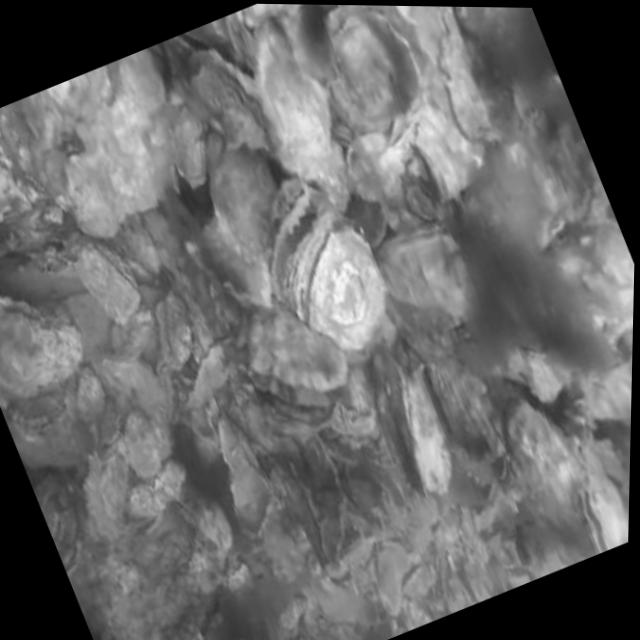Oyster-Closed: (544, 214, 634, 341), (440, 7, 512, 146), (378, 226, 476, 308), (579, 453, 629, 553), (164, 93, 208, 185), (470, 7, 535, 54), (0, 148, 17, 208)
Oyster-Indeterminate: (68, 53, 178, 234), (256, 23, 351, 208), (189, 210, 272, 304), (432, 369, 505, 463), (211, 144, 274, 249), (78, 241, 137, 319), (506, 397, 569, 460), (123, 409, 158, 477), (113, 309, 151, 357), (165, 295, 192, 362), (76, 370, 103, 422), (95, 404, 123, 454)
Oyster-Open: (266, 187, 382, 349), (246, 303, 351, 426), (330, 5, 431, 132), (187, 47, 278, 157), (0, 298, 85, 408), (244, 4, 300, 25)
